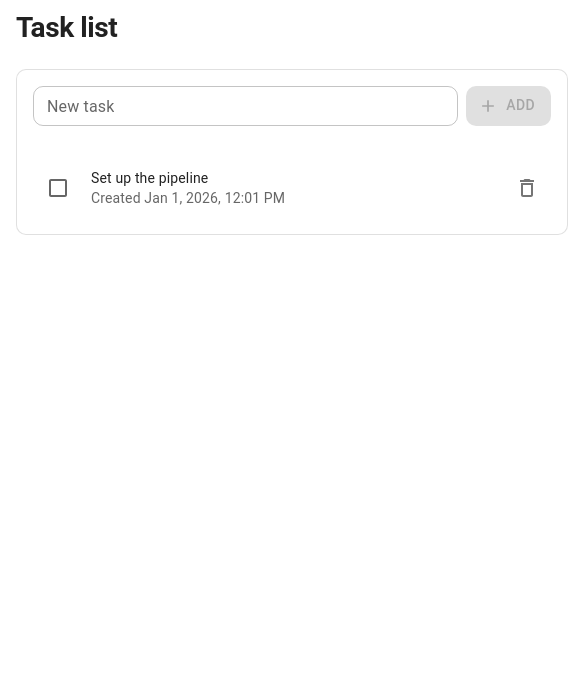
Test: App › once loaded › toggles a task between done and not done
Click the checkbox named "Set up the pipeline" at (58, 188), box [46,176,70,200]
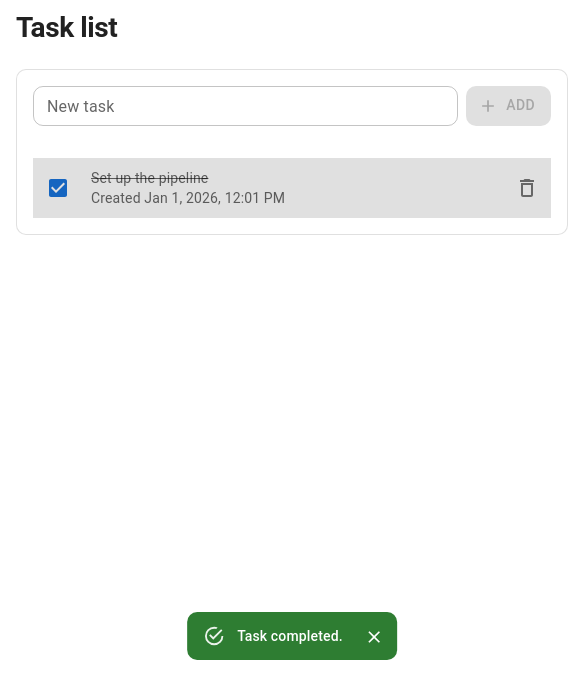
Expected: the checkbox named "Set up the pipeline" is checked
Expected: the message with test id "notification" reads "Task completed.", [237,628,343,644]
Click the checkbox named "Set up the pipeline" at (58, 188), box [46,176,70,200]
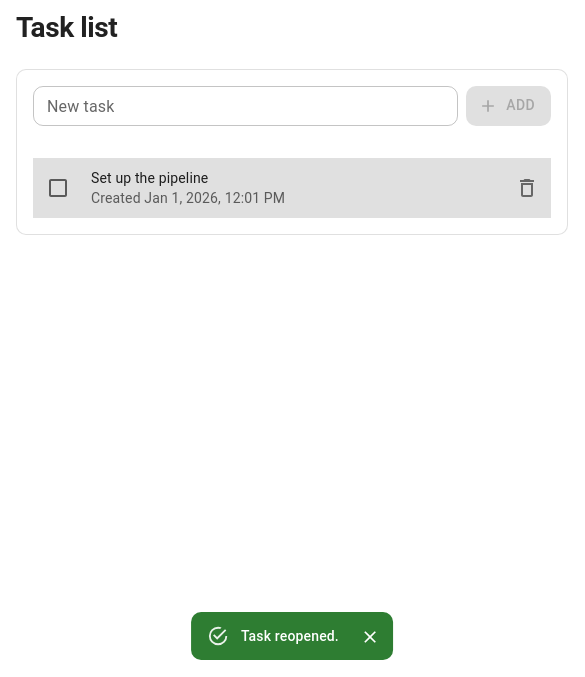
Expected: the checkbox named "Set up the pipeline" is not checked, [46,176,70,200]
Expected: the message with test id "notification" reads "Task reopened.", [241,628,339,644]
